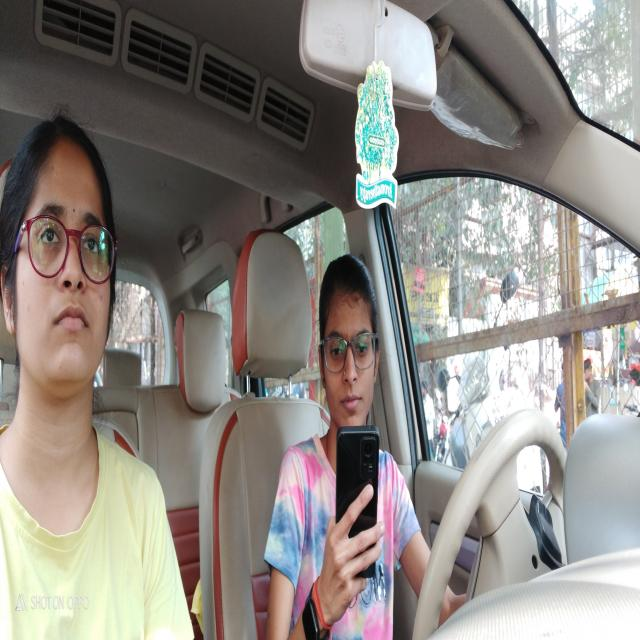mobile: (329, 420, 390, 569)
person: (0, 108, 120, 430), (308, 244, 402, 432)
